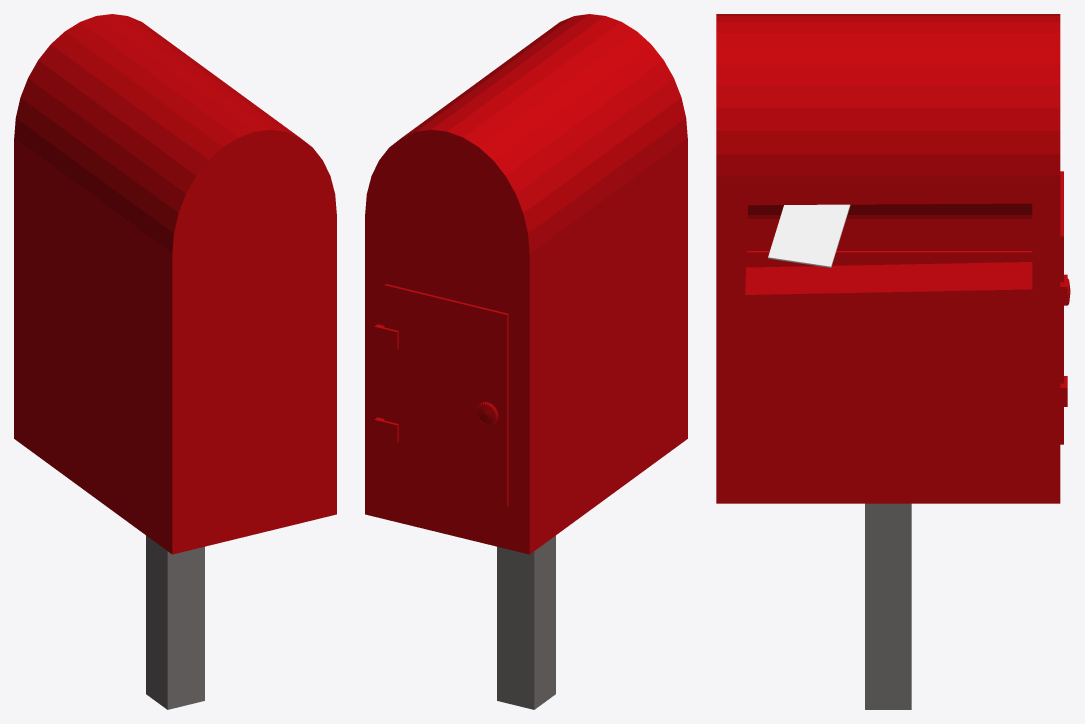
File: SM_PostBox.fbx
The picture shows the model from 3 angles, left to right: view 1: azimuth 30°, elevation 25°; view 2: azimuth 150°, elevation 25°; view 3: azimuth 270°, elevation 25°; orthographic projection. The views are drawn at different scales.
Visible parts, largest first — view 1: Cube.001, Cylinder, Cube; view 2: Cube.001, Cylinder, Cube.002, Cube; view 3: Cube.001, Cylinder, Cube, Cube.006, Cube.002.
Part boxes in pixels (x1,y1,x2,y2): Cube.001: (14,138,336,554); Cylinder: (14,14,336,253); Cube: (146,535,204,709); Cube.001: (365,138,687,554); Cylinder: (365,14,687,253); Cube.002: (384,284,508,506); Cube: (497,535,555,709); Cube.001: (716,177,1060,503); Cylinder: (716,14,1060,252); Cube: (865,503,911,709); Cube.006: (768,204,850,267); Cube.002: (1060,171,1063,444).
Size of the model in its own units: 318 by 959 by 454.
